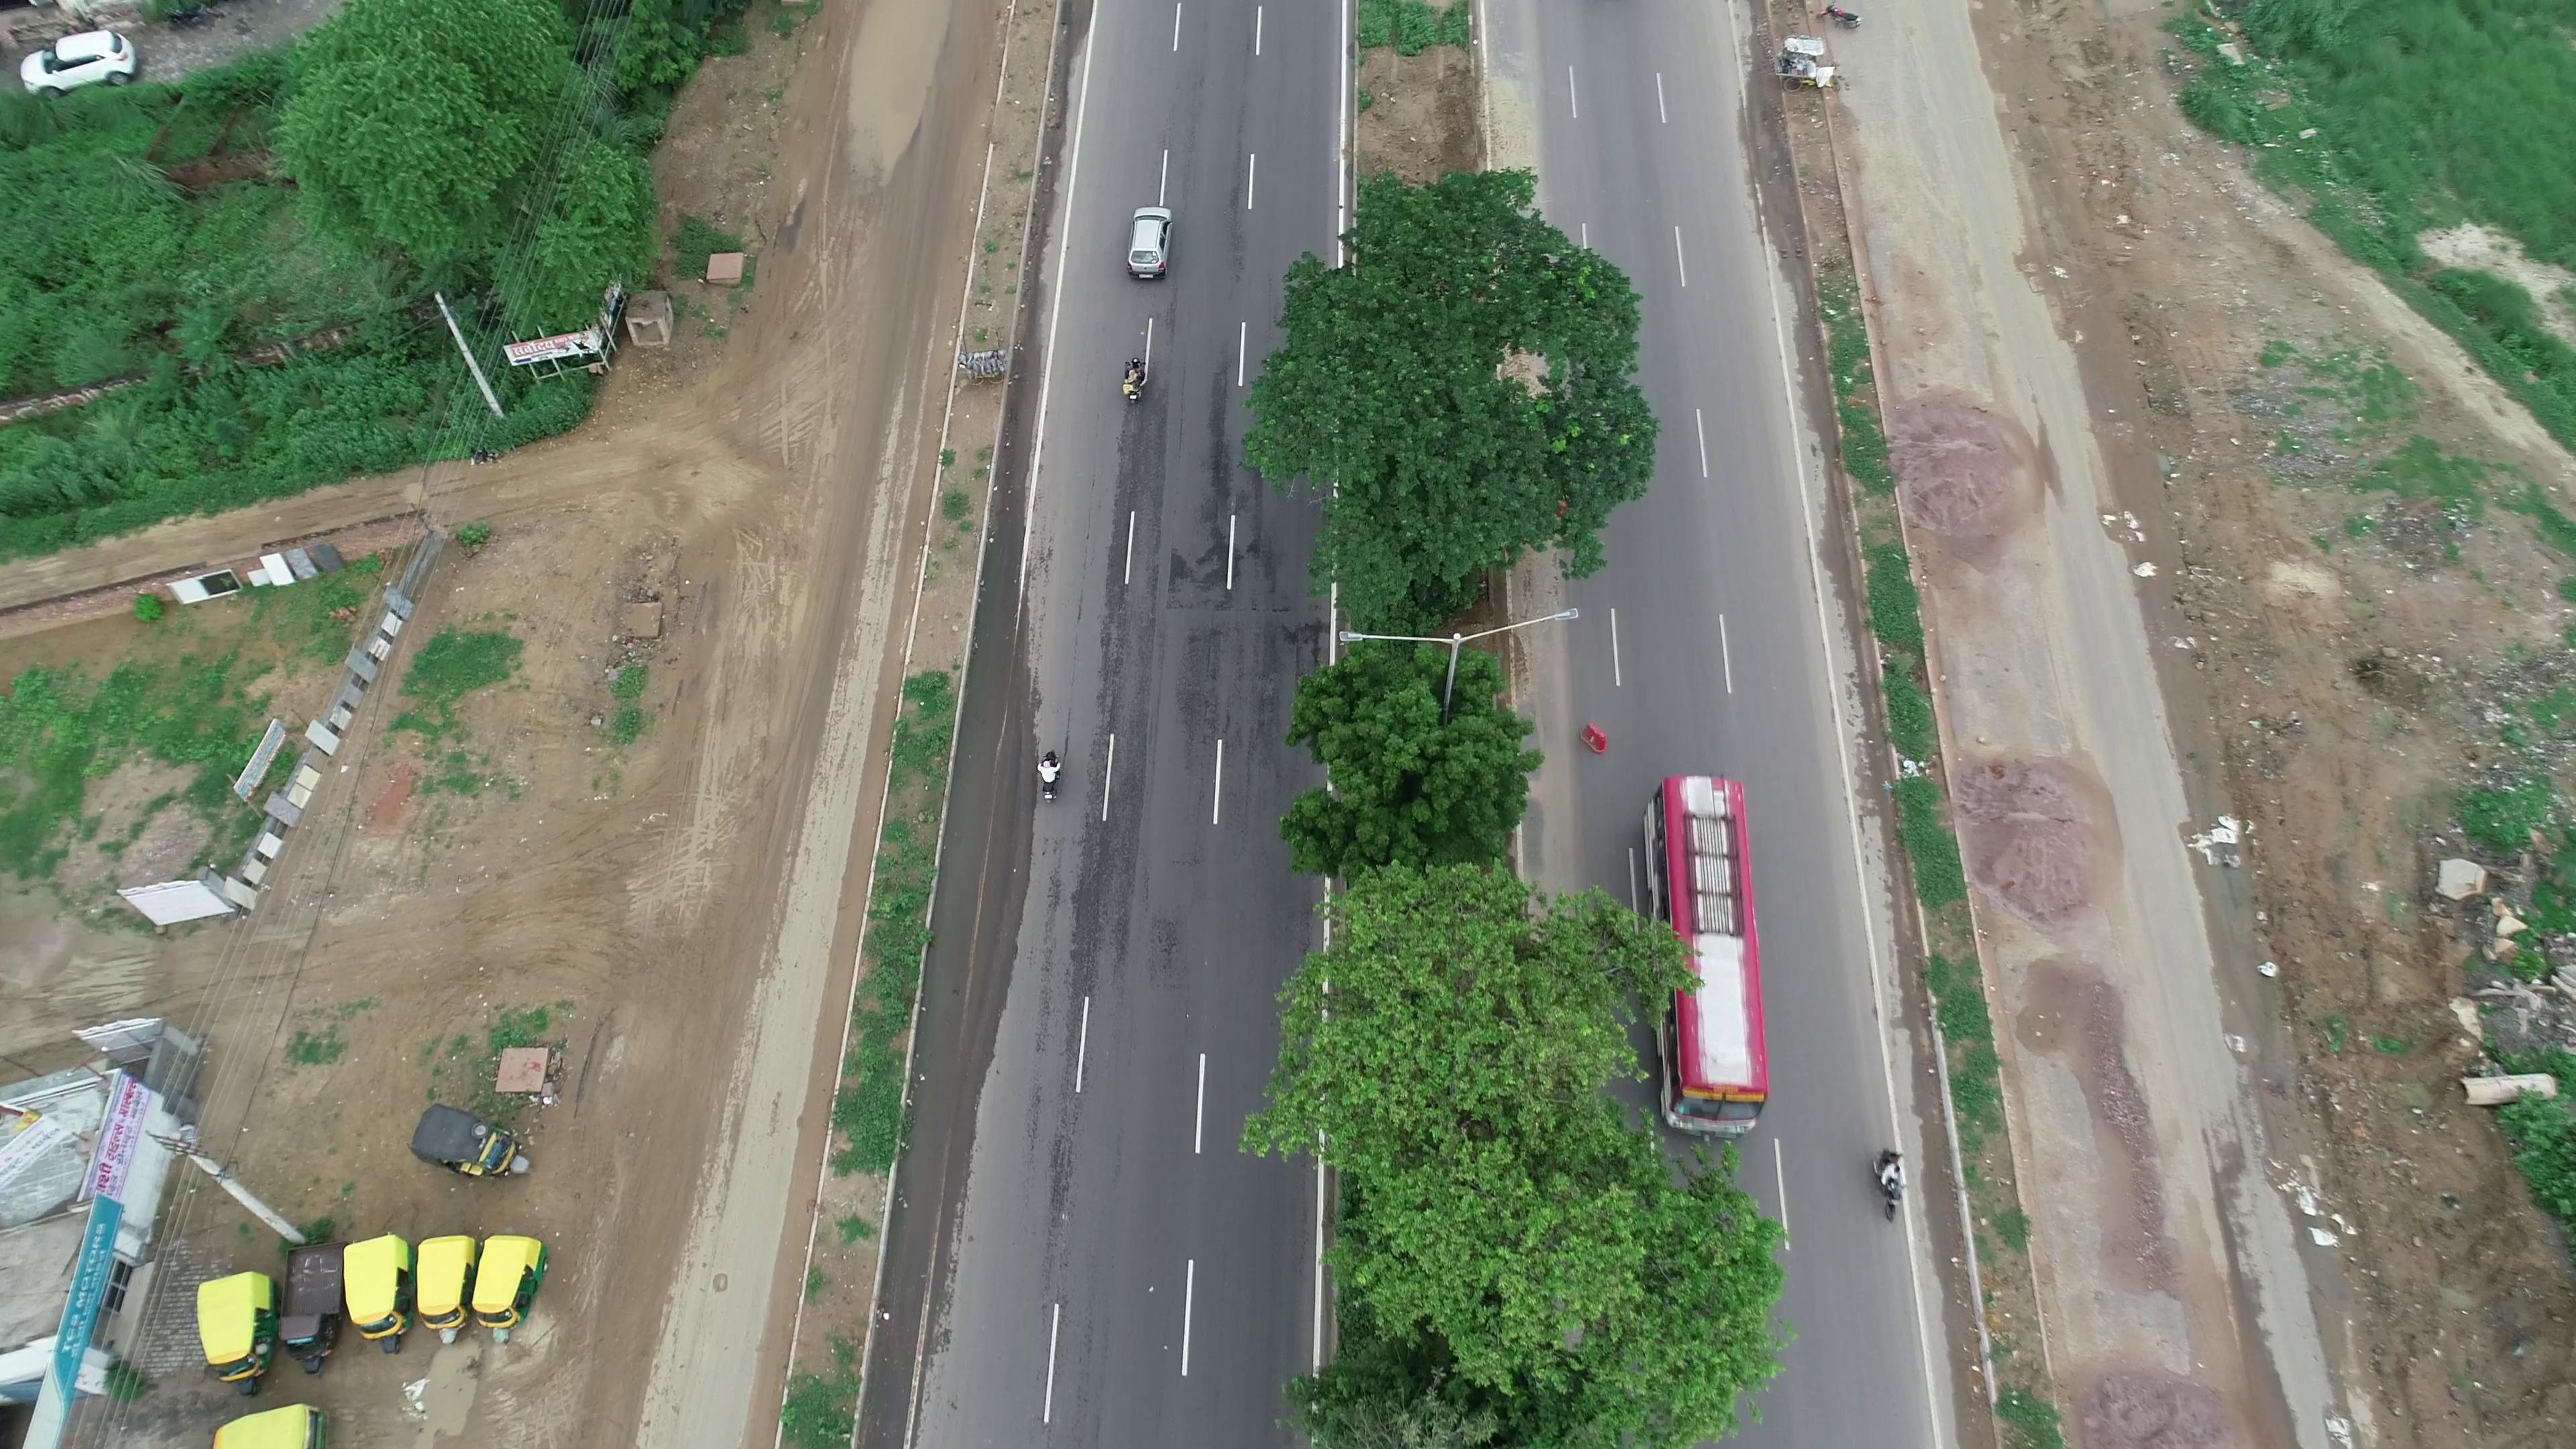Muddy_road: (1967, 727, 2139, 1030), (1898, 336, 2051, 602)
Ravelling: (1067, 582, 1161, 957), (1194, 357, 1246, 564)
Waterlogging: (909, 713, 1033, 1051)
